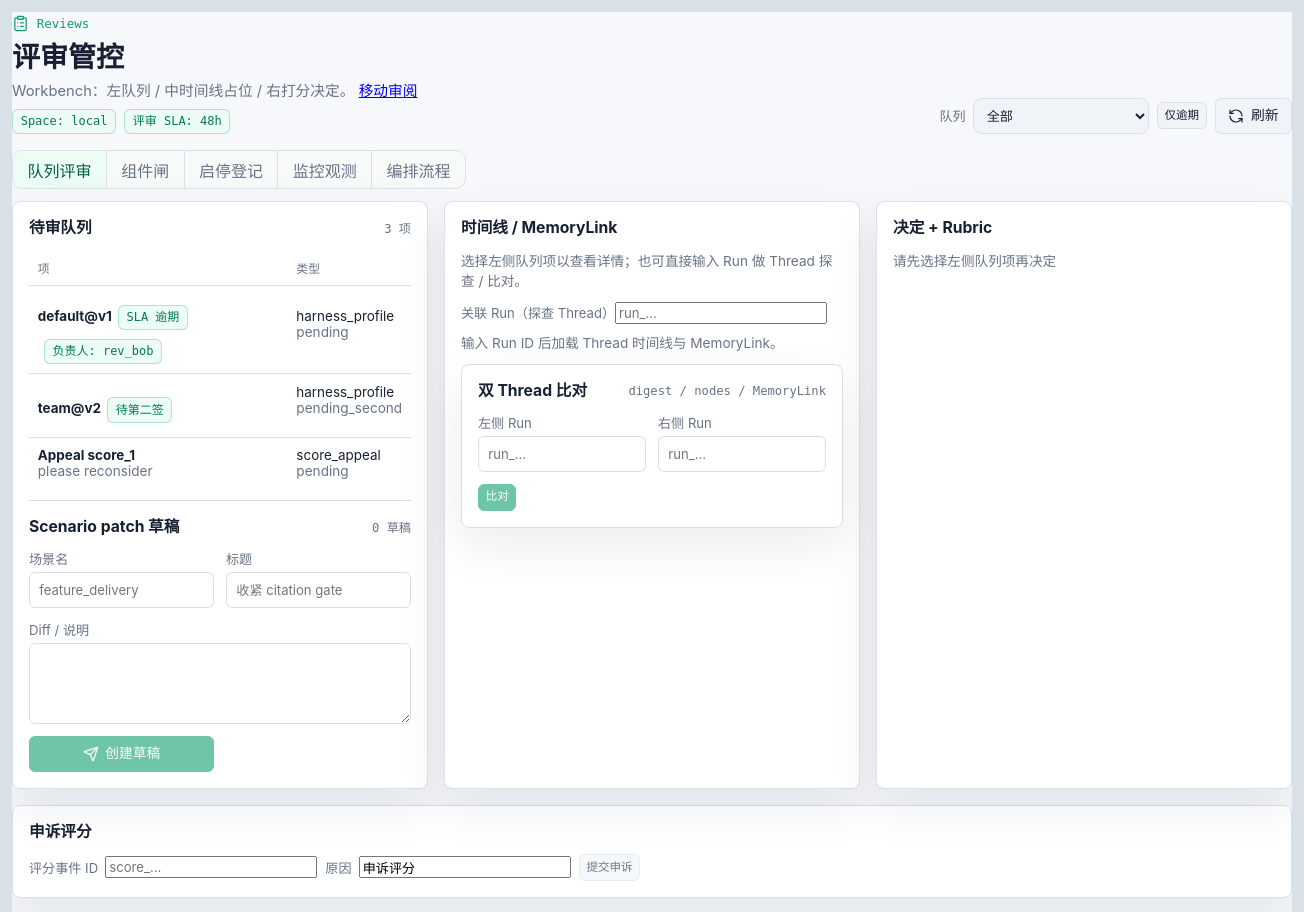
Scenario: ReviewsPage › hides assign controls without reviews:assign
Expected: the text with test id "reviews-decide-hint" reads "请先选择左侧队列项再决定", [893,253,1056,269]
Click the text "default@v1" at (75, 316), box [38,308,112,324]
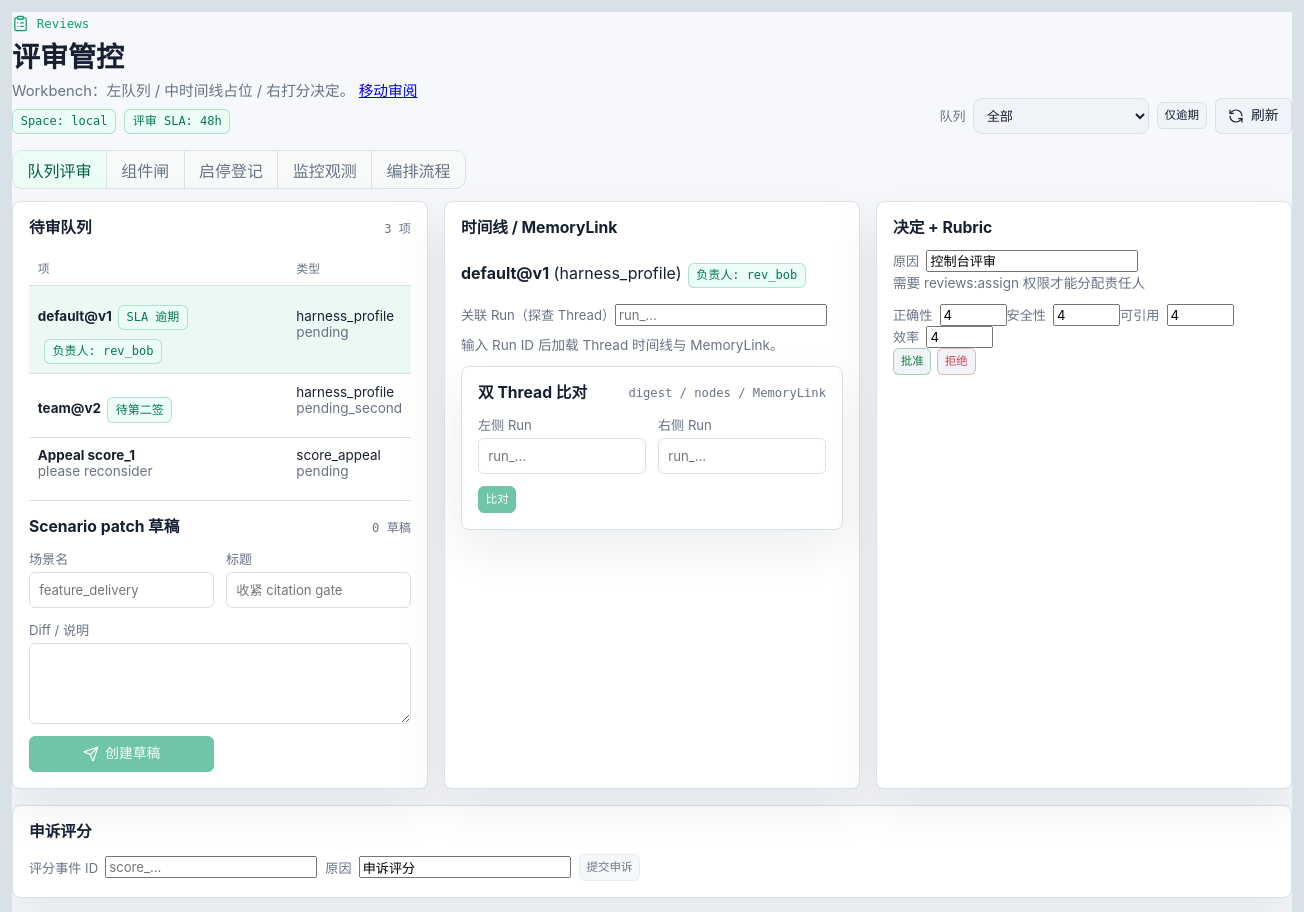
Now the text with test id "reviews-assign-denied" shows "reviews:assign", box [893,275,1145,291]
